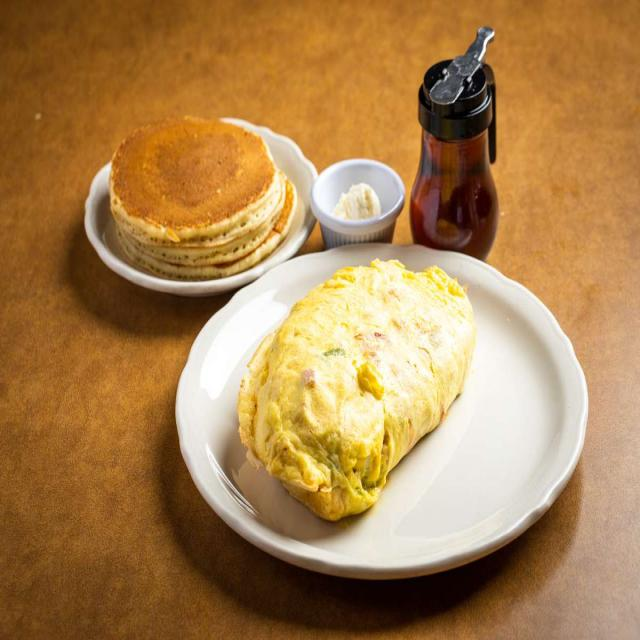Omelette: (229, 250, 479, 524)
Pancakes: (108, 108, 295, 278)
